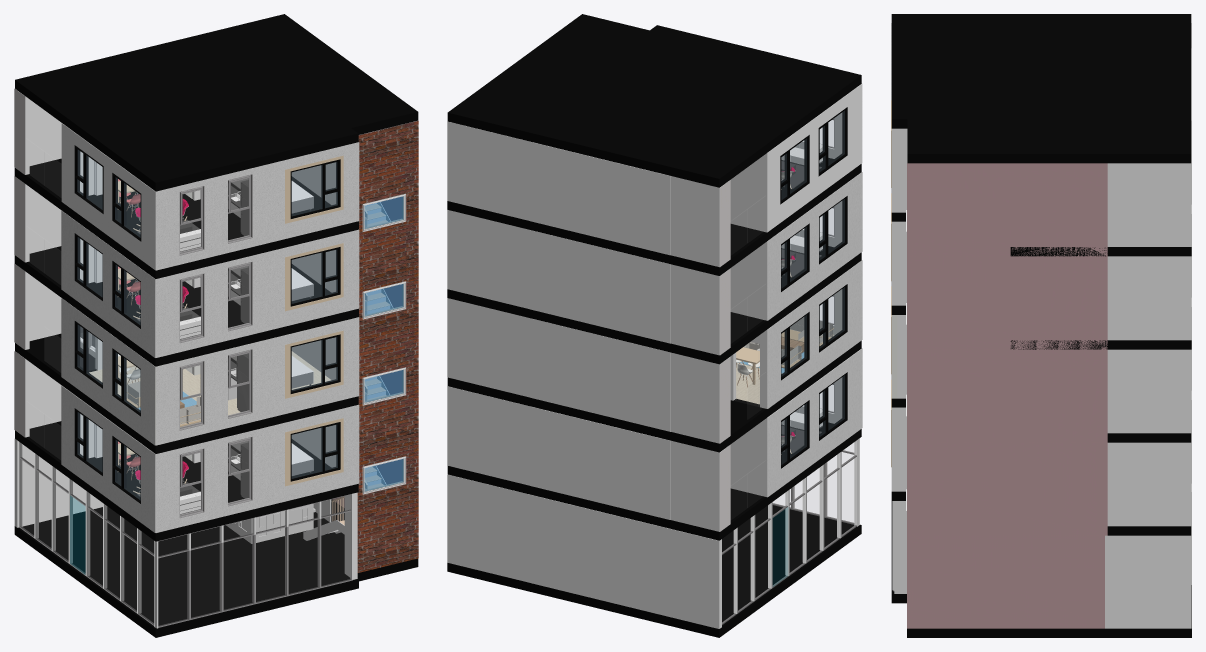
3 views of the same model, side by side, from view 1: azimuth 30°, elevation 25°; view 2: azimuth 150°, elevation 25°; view 3: azimuth 270°, elevation 25° (orthographic). The views are drawn at different scales.
Visible parts, largest first — view 1: FamilyInstance Casework 12_Casework_Counter Top_EDR1 <632173, Plane.001, Plane, FamilyInstance Doors MAHG_Suite Door_Ext_Double_Sliding <632, Plane.009, Basic Wall iW2w - 6" WOOD WALL [632022], Plane.013, FamilyInstance Furniture M_Sofa-Corbu <662053 Sofa<; view 2: FamilyInstance Casework 12_Casework_Counter Top_EDR1 <632173, Plane.001, FamilyInstance Doors MAHG_Suite Door_Ext_Double_Sliding <632, Plane.009, Plane.013, FamilyInstance Furniture M_Sofa-Corbu <662053 Sofa<; view 3: FamilyInstance Casework 12_Casework_Counter Top_EDR1 <632173, Plane.009.
Boxes of the visible parts, x1,y1,x2,y2 form: FamilyInstance Casework 12_Casework_Counter Top_EDR1 <632173: (14,14,418,637); Plane.001: (61,142,359,532); Plane: (357,121,418,572); FamilyInstance Doors MAHG_Suite Door_Ext_Double_Sliding <632: (44,150,403,574); Plane.009: (14,89,358,445); Basic Wall iW2w - 6" WOOD WALL [632022]: (65,300,331,543); Plane.013: (89,351,331,415); FamilyInstance Furniture M_Sofa-Corbu <662053 Sofa<: (126,381,200,424); FamilyInstance Casework 12_Casework_Counter Top_EDR1 <632173: (447,14,861,637); Plane.001: (767,84,862,496); FamilyInstance Doors MAHG_Suite Door_Ext_Double_Sliding <632: (735,111,853,586); Plane.009: (720,180,861,531); Plane.013: (736,335,834,404); FamilyInstance Furniture M_Sofa-Corbu <662053 Sofa<: (745,317,832,365); FamilyInstance Casework 12_Casework_Counter Top_EDR1 <632173: (891,14,1191,637); Plane.009: (891,23,1191,398).
Bounding box in the file's own units: 32.37 × 52 × 29.28.
12 materials, 12 textured.
